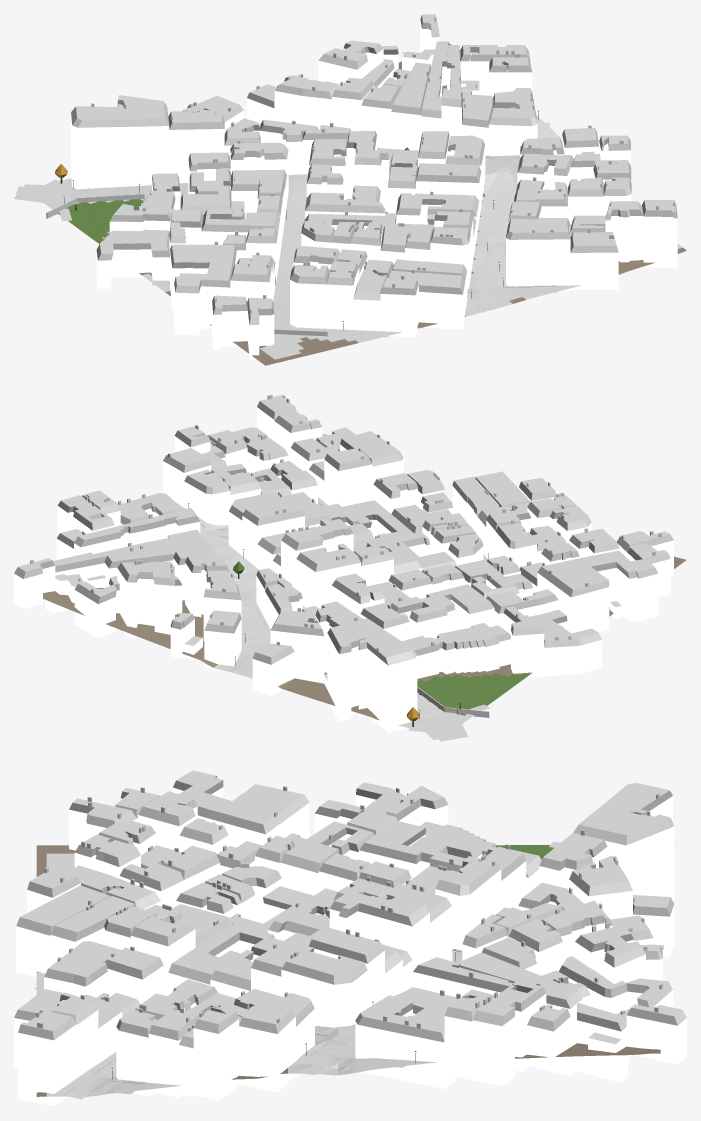
File: zone_B4.glb
3 views of the same model, one above another, from view 1: azimuth 30°, elevation 25°; view 2: azimuth 150°, elevation 25°; view 3: azimuth 270°, elevation 25° (orthographic). The views are drawn at different scales.
Parts seen in each view (by area): view 1: zone_B4_batiments, zone_B4_sol_NOCOL, zone_B4_terrain; view 2: zone_B4_batiments, zone_B4_terrain, zone_B4_sol_NOCOL; view 3: zone_B4_batiments, zone_B4_terrain, zone_B4_sol_NOCOL.
Boxes of the visible parts, x1,y1,x2,y2 form: zone_B4_batiments: (46,14,677,360); zone_B4_sol_NOCOL: (14,122,556,350); zone_B4_terrain: (44,43,686,365); zone_B4_batiments: (14,394,673,732); zone_B4_terrain: (43,497,686,732); zone_B4_sol_NOCOL: (198,500,489,741); zone_B4_batiments: (14,770,686,1106); zone_B4_terrain: (36,845,660,1096); zone_B4_sol_NOCOL: (34,841,674,1099).
Size of the model in its own units: 217 by 38.98 by 200.
